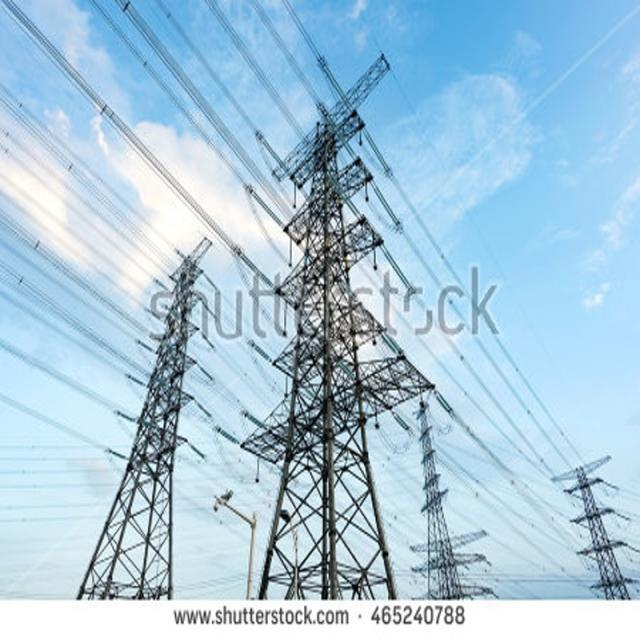non-critical vegetation: (246, 101, 407, 596), (89, 242, 210, 597), (408, 401, 494, 602), (525, 435, 625, 603)
